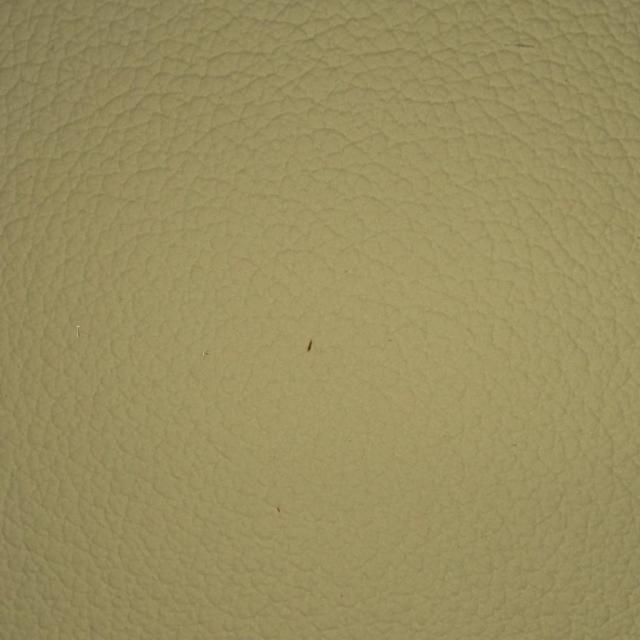Scratch: (202, 300, 423, 402)
